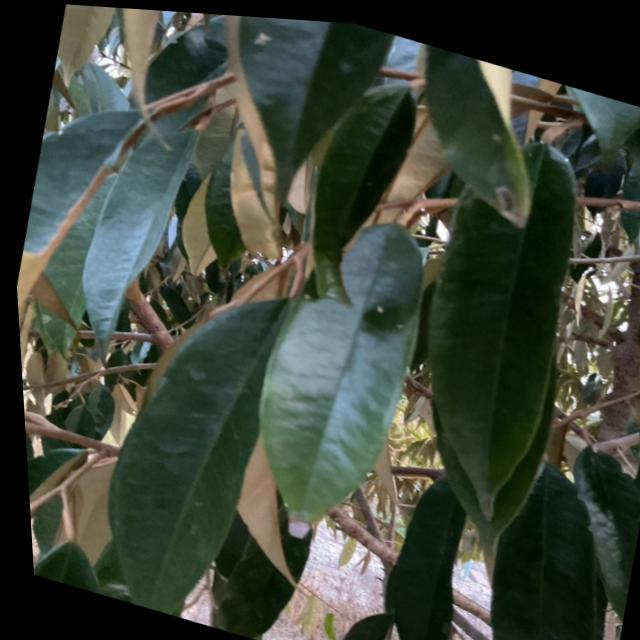Leaf Blight: (253, 218, 422, 534)
